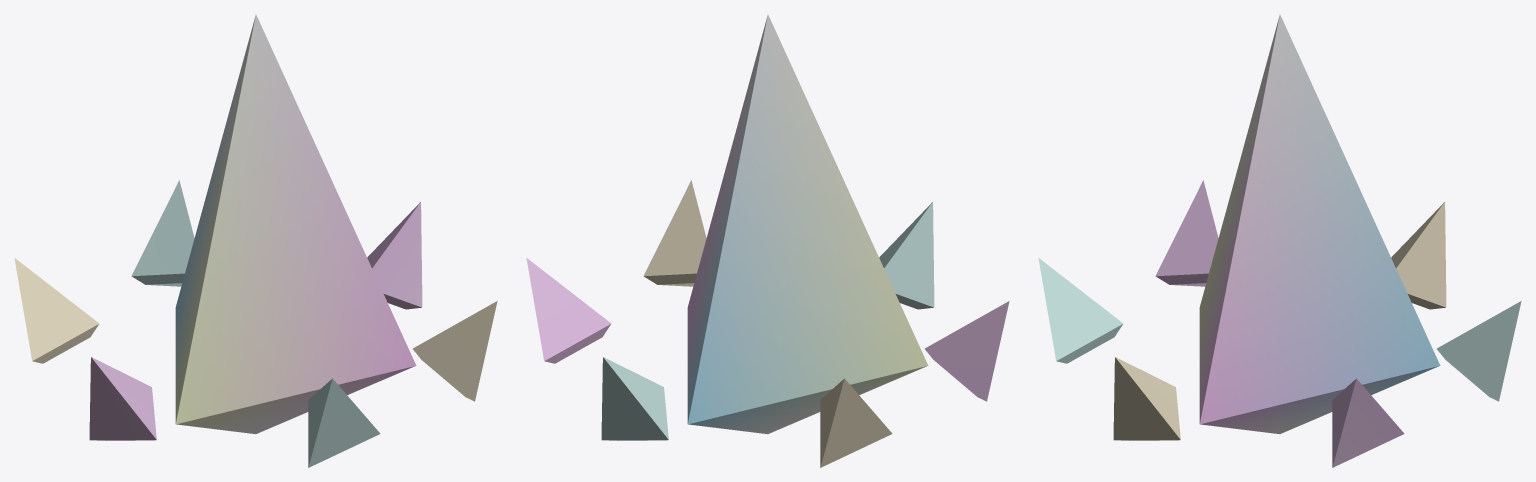
The model's file is Prism.glb.
3 renders of one model, left to right at view 1: azimuth 30°, elevation 25°; view 2: azimuth 150°, elevation 25°; view 3: azimuth 270°, elevation 25°, orthographic.
Parts seen in each view (by area): view 1: Prism, Prism Ring; view 2: Prism, Prism Ring; view 3: Prism, Prism Ring.
Part boxes in pixels (x1=…): Prism: x1=175, y1=14, x2=416, y2=434; Prism Ring: x1=14, y1=180, x2=497, y2=467; Prism: x1=687, y1=14, x2=928, y2=434; Prism Ring: x1=526, y1=180, x2=1009, y2=467; Prism: x1=1199, y1=14, x2=1440, y2=434; Prism Ring: x1=1038, y1=180, x2=1521, y2=467.
Size of the model in its own units: 0.368 by 0.3634 by 0.3787.
